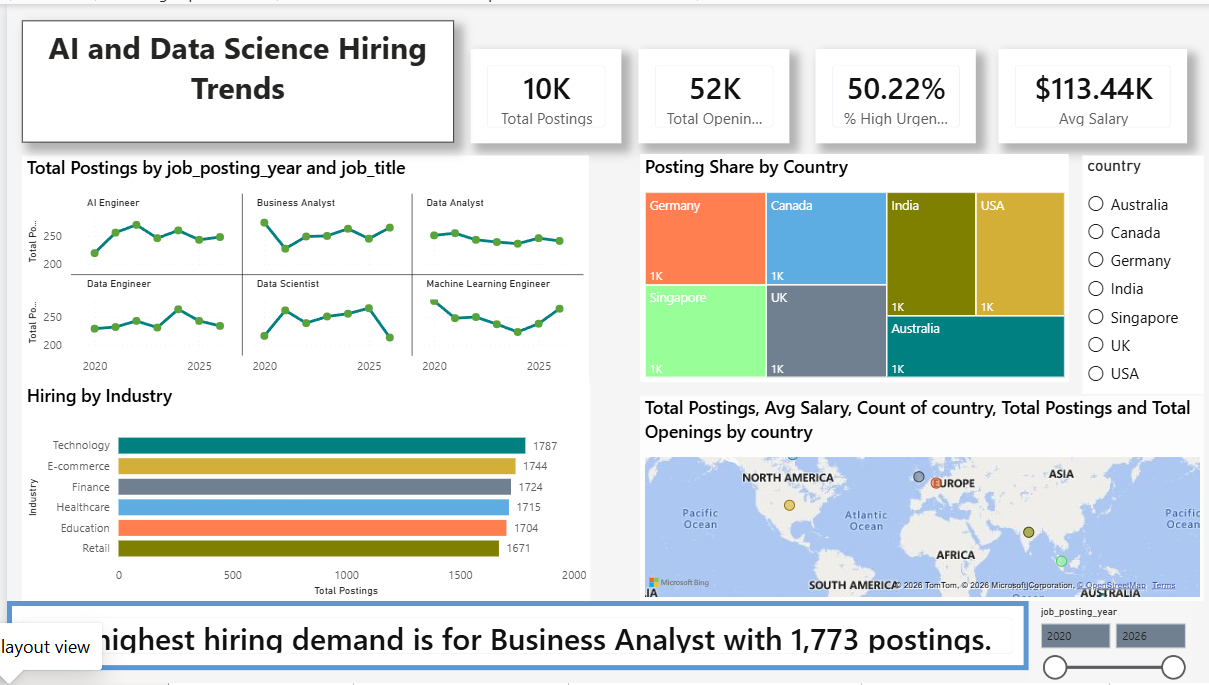

The dashboard page shown, as its layout file describes it:
{"tool":"powerbi","page":{"name":"Executive Pulse","canvas":[1280,720],"ordinal":0},"visuals":[{"type":"cardVisual","fields":{"Data":["AI Job Market Dataset.Total Postings"]},"box":[492.2,47,160,100],"z":0},{"type":"cardVisual","fields":{"Data":["AI Job Market Dataset.Avg Salary"]},"box":[1050.9,47,200,100],"z":1000},{"type":"cardVisual","fields":{"Data":["AI Job Market Dataset.Total Openings"]},"box":[670.4,47,160,100],"z":2000},{"type":"cardVisual","fields":{"Data":["AI Job Market Dataset.% High Urgency"]},"box":[856.6,47,170,100],"z":3000},{"type":"lineChart","fields":{"Category":["AI Job Market Dataset.job_posting_year"],"Y":["AI Job Market Dataset.Total Postings"],"Rows":["AI Job Market Dataset.job_title"]},"box":[16,160,601.3,241.8],"z":4000},{"type":"treemap","title":"Posting Share by Country","fields":{"Group":["AI Job Market Dataset.country"],"Values":["AI Job Market Dataset.Total Postings"]},"box":[671.2,159.1,454.9,241.8],"z":5000},{"type":"clusteredBarChart","title":"Hiring by Industry","fields":{"Category":["AI Job Market Dataset.company_industry"],"Y":["AI Job Market Dataset.Total Postings"]},"box":[15.9,402.4,602.8,230.6],"z":6000},{"type":"cardVisual","title":"Market Insight","fields":{"Data":["AI Job Market Dataset.Top Hiring Role"]},"box":[0,633.1,1083.2,73.2],"z":7000},{"type":"map","fields":{"Category":["AI Job Market Dataset.country"],"Size":["AI Job Market Dataset.Total Postings"]},"box":[671.2,415.1,598.1,217.9],"z":8000},{"type":"slicer","fields":{"Values":["AI Job Market Dataset.job_posting_year"]},"box":[1083.2,633.1,175,87.5],"z":9000},{"type":"textbox","box":[16.2,17.8,458.2,129.5],"z":10000},{"type":"listSlicer","fields":{"Values":["AI Job Market Dataset.country"]},"box":[1140.5,160.7,128.8,252.9],"z":11000}]}

Visuals, with their boxes on the page's 1280x720 design canvas (x1, y1, x2, y2). These are canvas units, not pixel positions in the 1209x685 screenshot, which may show the page scaled, cropped or inside an application window:
cardVisual - AI Job Market Dataset.Total Postings: <region>492, 47, 652, 147</region>
cardVisual - AI Job Market Dataset.Avg Salary: <region>1051, 47, 1251, 147</region>
cardVisual - AI Job Market Dataset.Total Openings: <region>670, 47, 830, 147</region>
cardVisual - AI Job Market Dataset.% High Urgency: <region>857, 47, 1027, 147</region>
lineChart - AI Job Market Dataset.job_posting_year x AI Job Market Dataset.Total Postings: <region>16, 160, 617, 402</region>
"Posting Share by Country" treemap: <region>671, 159, 1126, 401</region>
"Hiring by Industry" clusteredBarChart: <region>16, 402, 619, 633</region>
"Market Insight" cardVisual: <region>0, 633, 1083, 706</region>
map - AI Job Market Dataset.country x AI Job Market Dataset.Total Postings: <region>671, 415, 1269, 633</region>
slicer - AI Job Market Dataset.job_posting_year: <region>1083, 633, 1258, 721</region>
textbox: <region>16, 18, 474, 147</region>
listSlicer - AI Job Market Dataset.country: <region>1140, 161, 1269, 414</region>
